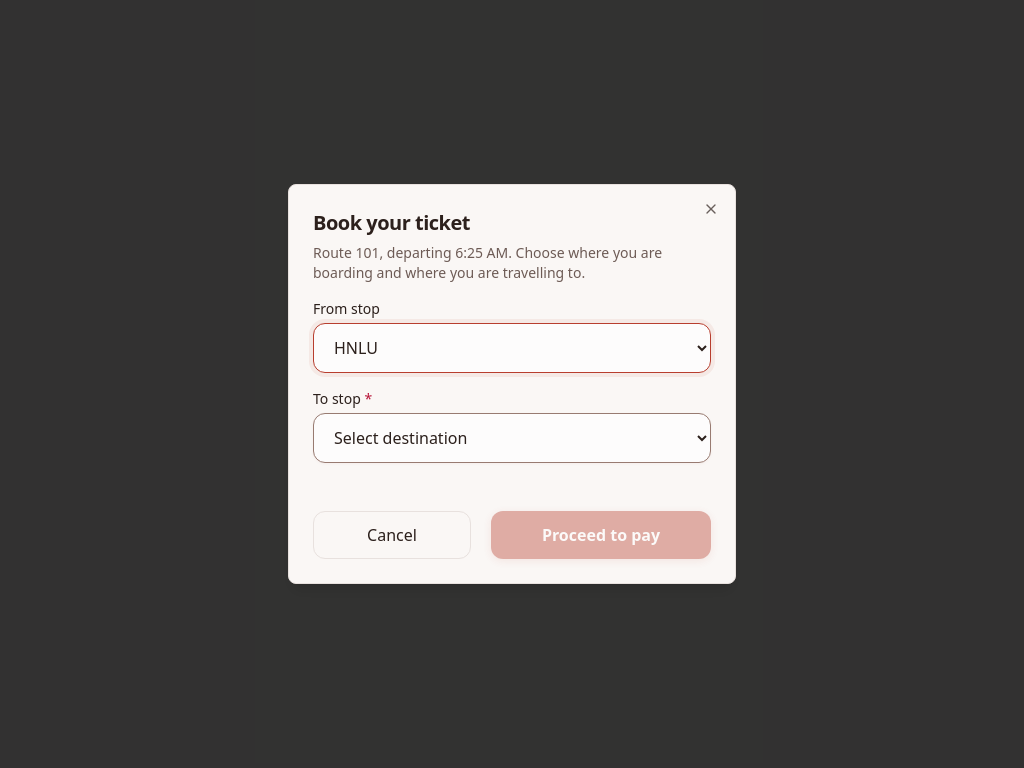
Test: the journey summary › updates the fare when the destination changes
The width and height of the screenshot is (1024, 768).
Select "CBD" in the dropdown labelled "To stop *" at (512, 438), box x1=313 y1=413 x2=711 y2=463
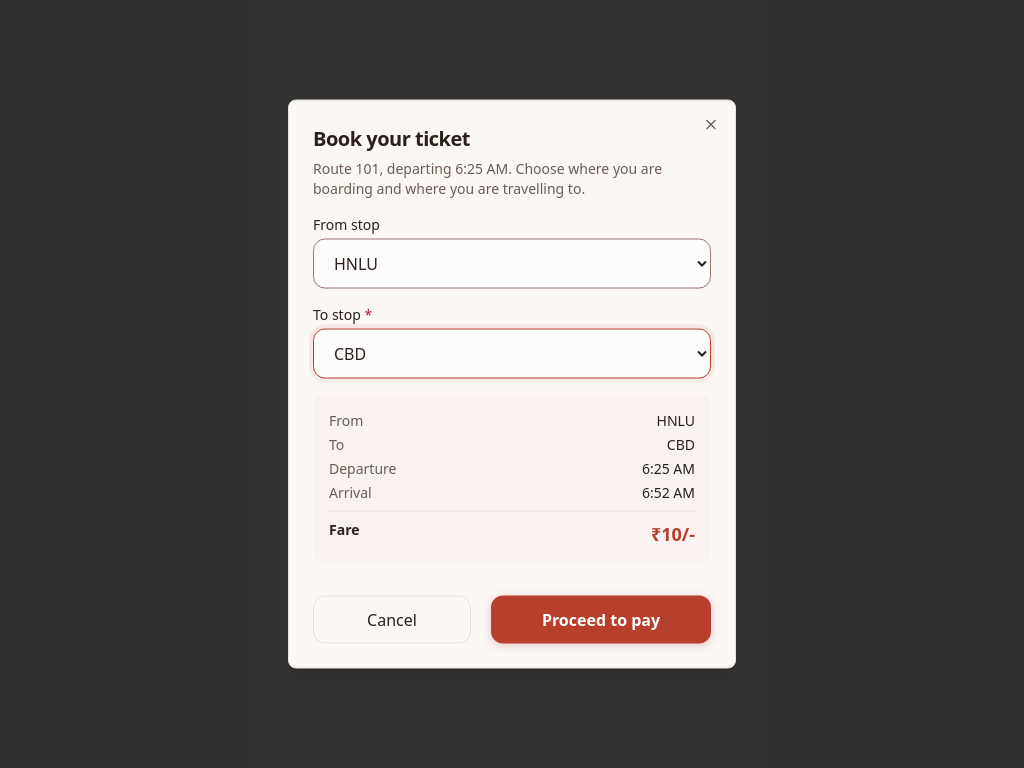
Now the text "₹10/-" is shown, box x1=651 y1=520 x2=695 y2=548
Select "Raipur Railway Station" in the dropdown labelled "To stop *" at (512, 354), box x1=313 y1=328 x2=711 y2=378
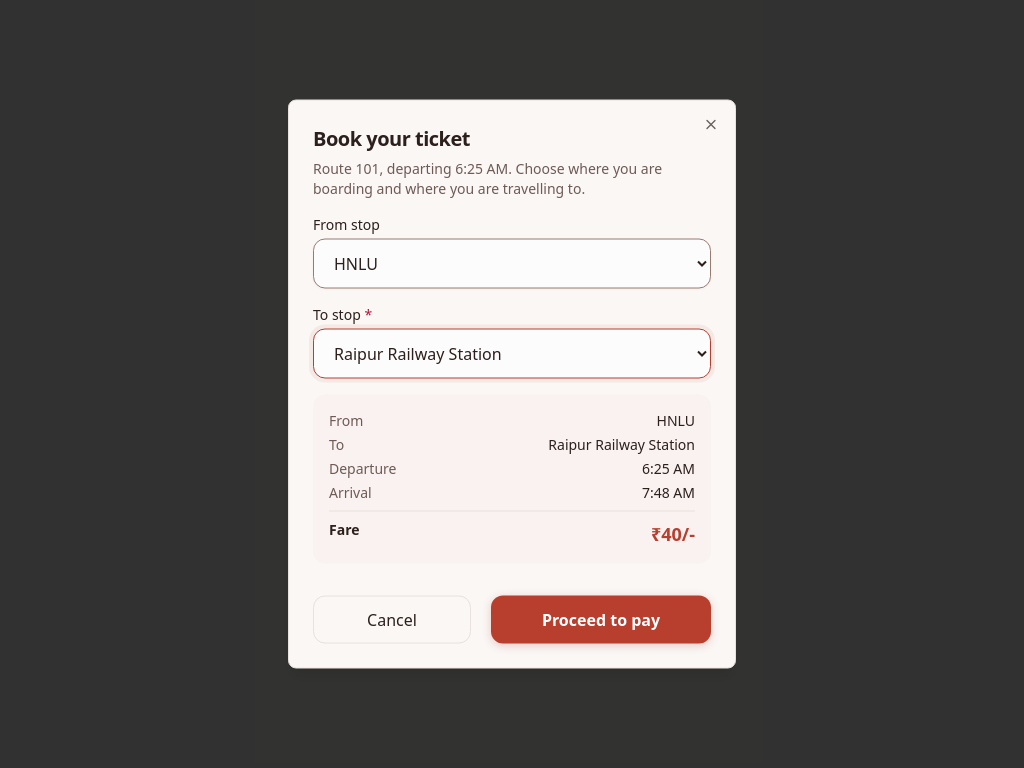
Now the text "₹40/-" is shown, box x1=651 y1=520 x2=695 y2=548
